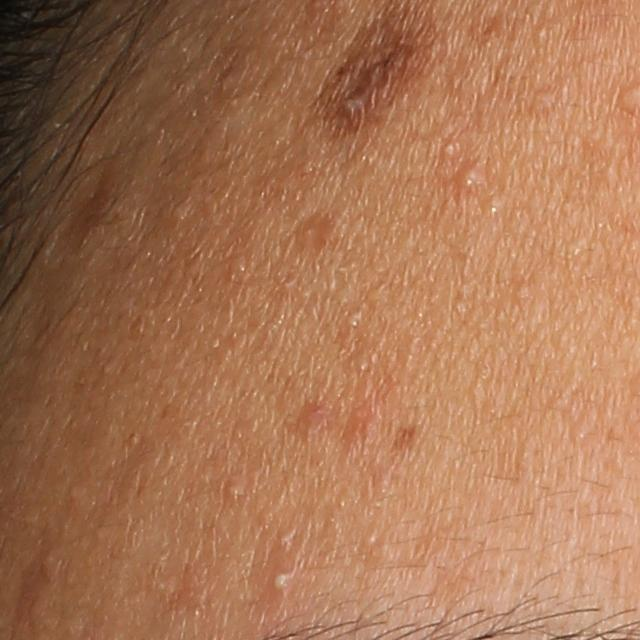comedo: (525, 83, 551, 109), (224, 479, 242, 502), (486, 193, 504, 213), (361, 532, 376, 547), (442, 143, 455, 157)
papule: (293, 404, 325, 434), (452, 165, 479, 190)
pustule: (263, 561, 298, 607)
